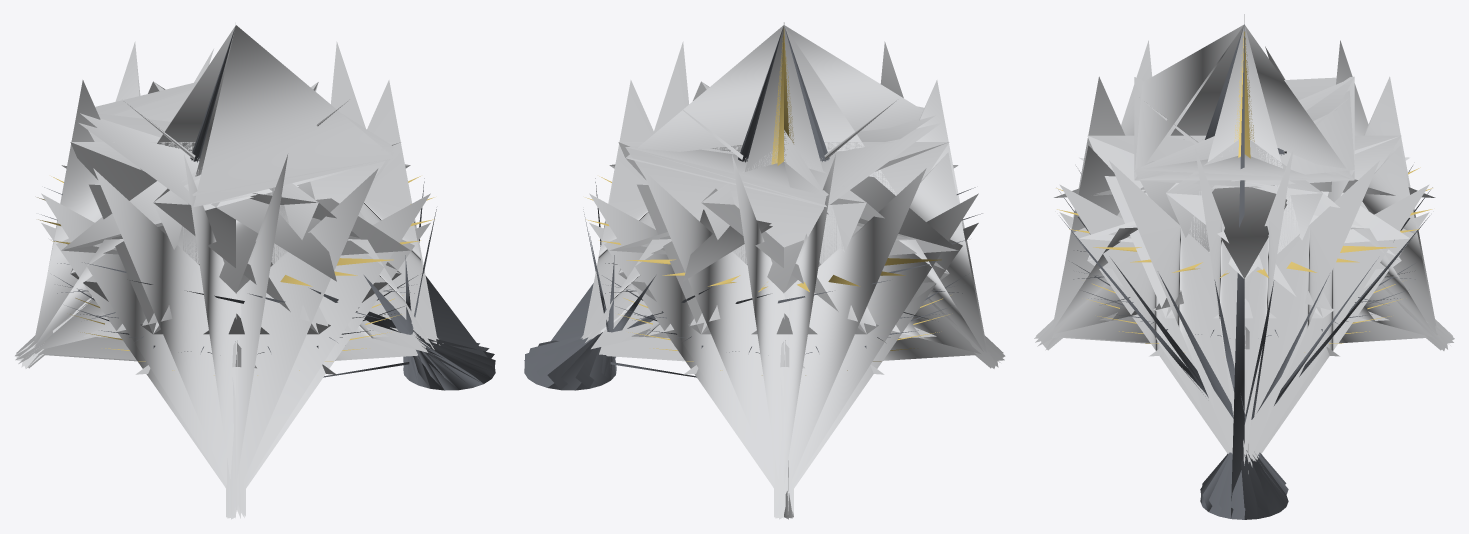
The model's file is surveyor_5.gltf.
3 views of the same model, side by side, from view 1: azimuth 30°, elevation 25°; view 2: azimuth 150°, elevation 25°; view 3: azimuth 270°, elevation 25° (orthographic). The views are drawn at different scales.
Parts seen in each view (by area): view 1: Surveyor 5; view 2: Surveyor 5; view 3: Surveyor 5.
Part boxes in pixels (bbox=[...]): Surveyor 5: bbox=[14, 22, 495, 519]; Surveyor 5: bbox=[524, 22, 1005, 519]; Surveyor 5: bbox=[1034, 14, 1454, 519].
Size of the model in its own units: 2.45 by 2.17 by 2.19.
